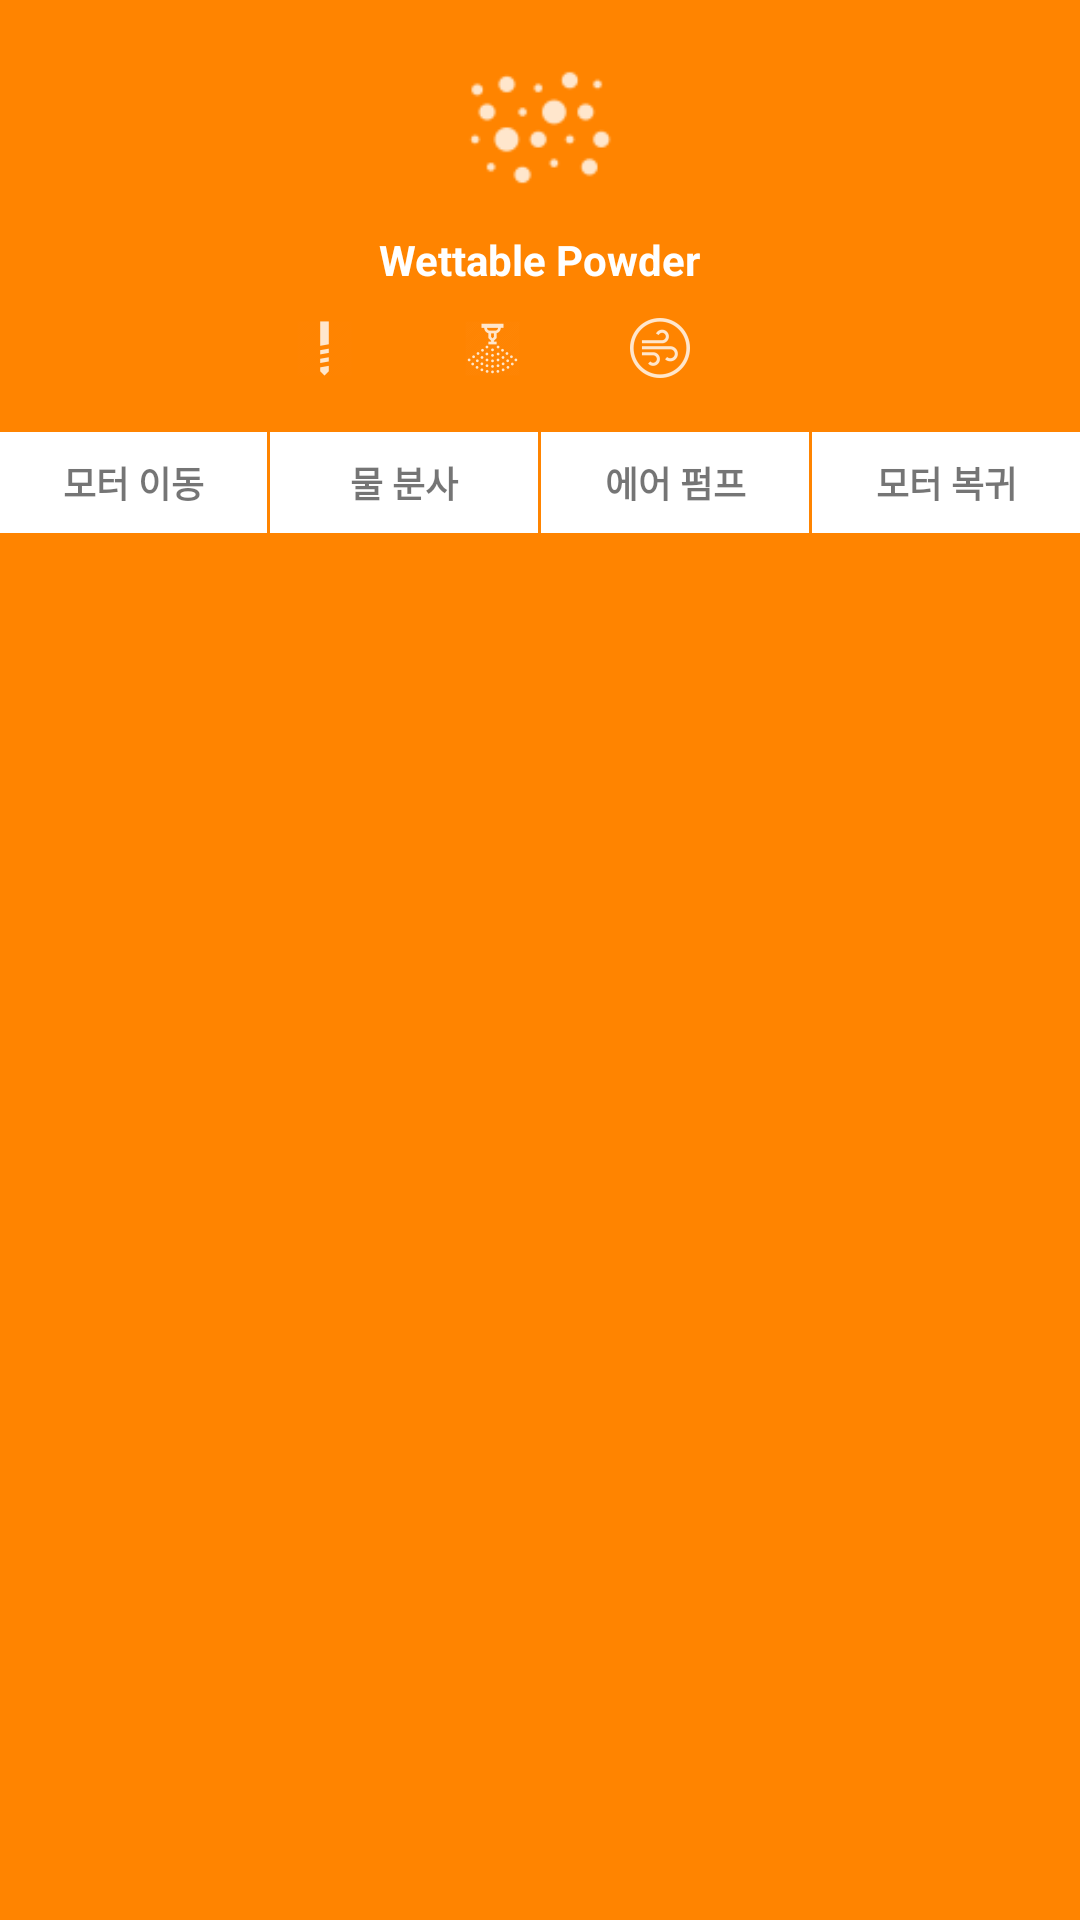

Icon bounding boxes for this 1080 × 1920 phone screenshot, format {"left": x1, "top": y1, "right": x2, "bottom": y2}:
air: {"left": 630, "top": 318, "right": 690, "bottom": 378}
spray: {"left": 467, "top": 323, "right": 518, "bottom": 374}
